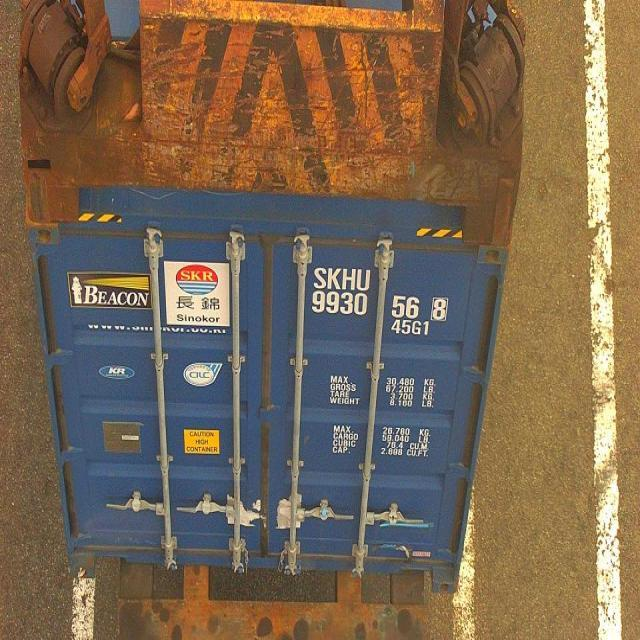ISO: (391, 317, 431, 338)
container_number: (319, 276, 456, 317)
